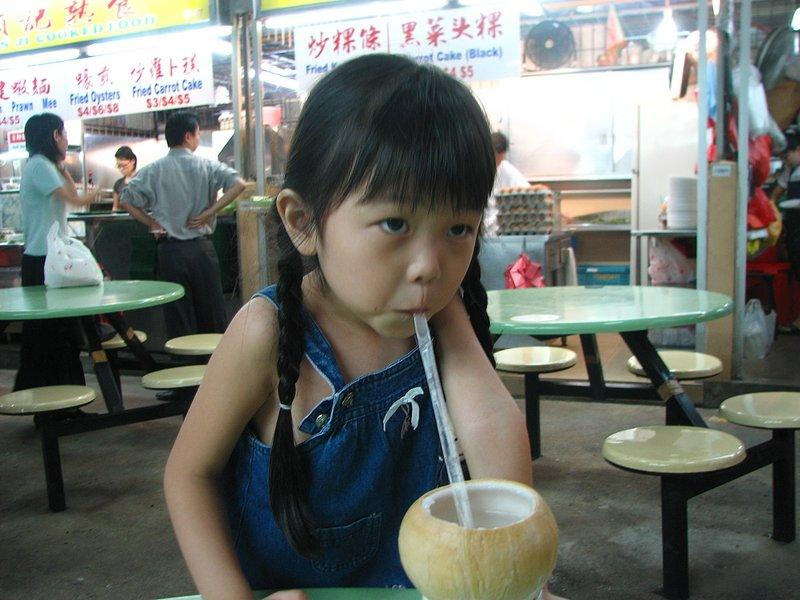person: (158, 54, 560, 600)
